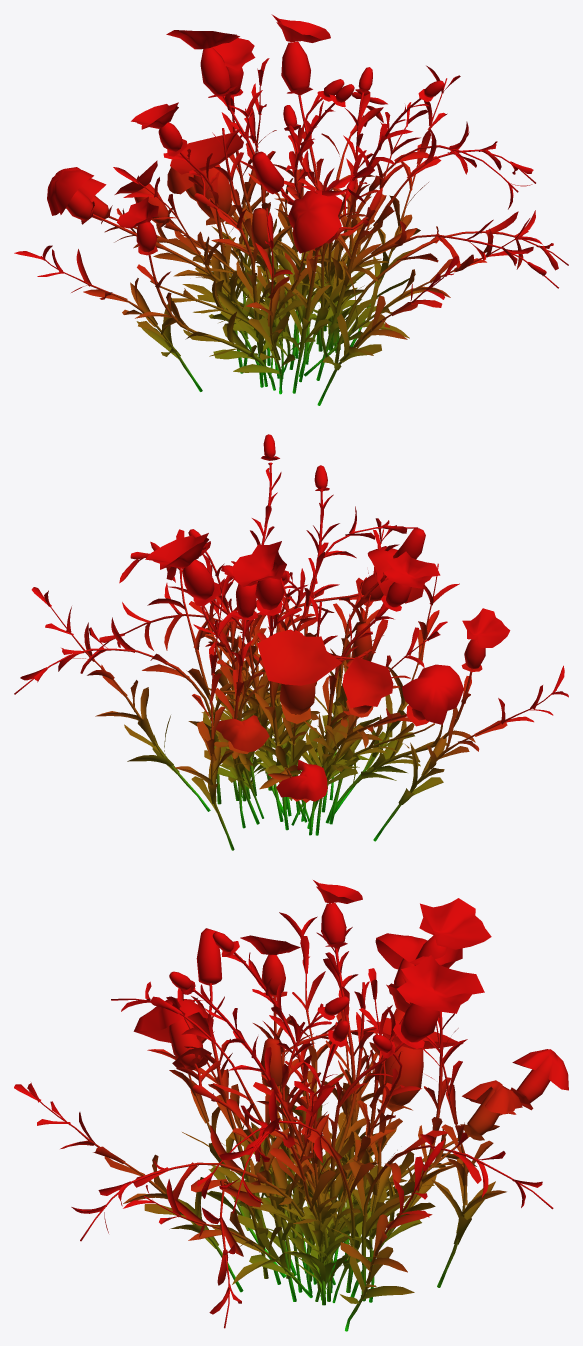
Rendered from Var9_LOD0.fbx.
3 views of the same model, one above another, from view 1: azimuth 30°, elevation 25°; view 2: azimuth 150°, elevation 25°; view 3: azimuth 270°, elevation 25° (orthographic). The views are drawn at different scales.
Parts seen in each view (by area): view 1: _uoa5_Var9_LOD0; view 2: _uoa5_Var9_LOD0; view 3: _uoa5_Var9_LOD0.
Part boxes in pixels (box(x1,y1,x2,y2)): _uoa5_Var9_LOD0: box(14, 14, 568, 405); _uoa5_Var9_LOD0: box(14, 434, 568, 850); _uoa5_Var9_LOD0: box(14, 880, 568, 1331).
Bounding box in the file's own units: 46.4 × 27.98 × 37.77.
